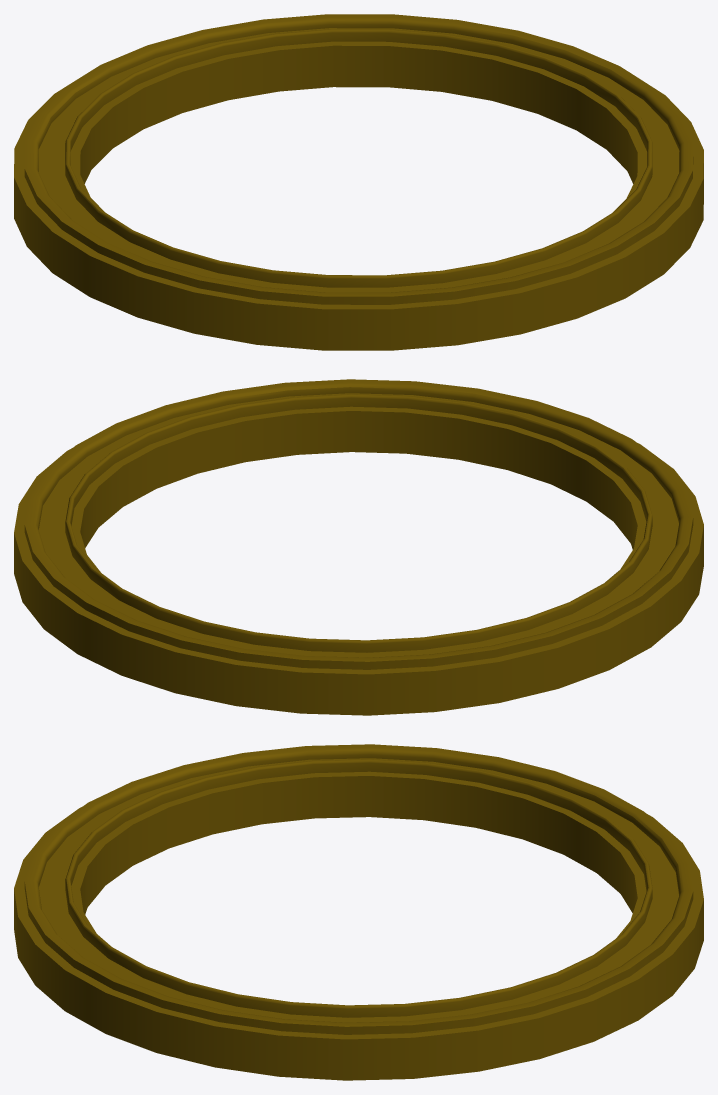
Rendered from Compass.glb.
3 views of the same model, one above another, from view 1: azimuth 30°, elevation 25°; view 2: azimuth 150°, elevation 25°; view 3: azimuth 270°, elevation 25° (orthographic).
Parts seen in each view (by area): view 1: Cylinder.005; view 2: Cylinder.005; view 3: Cylinder.005.
Part boxes in pixels (x1,y1,x2,y2): Cylinder.005: (14, 14, 703, 350); Cylinder.005: (14, 379, 703, 715); Cylinder.005: (14, 744, 703, 1080).
Size of the model in its own units: 2.47 by 0.2065 by 2.47.
